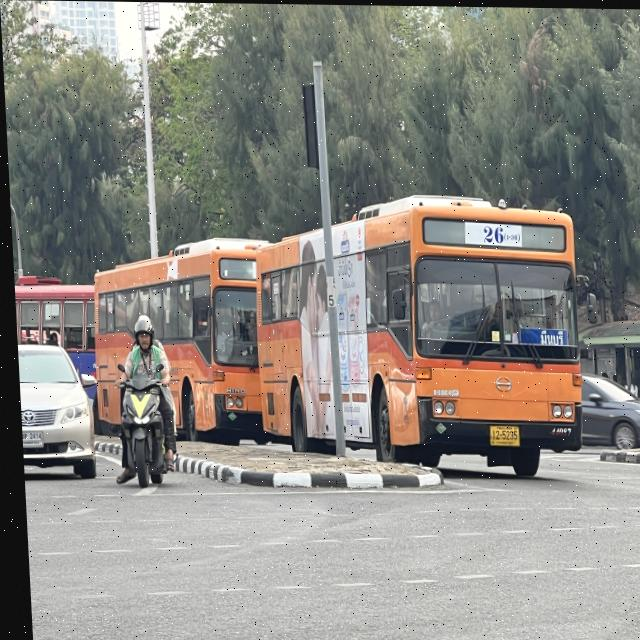BMTA-bus: (245, 185, 603, 481), (84, 226, 290, 439)
Bus-Line-Number: (464, 218, 520, 245)
Destination-Sign-Normal: (515, 325, 566, 345)
